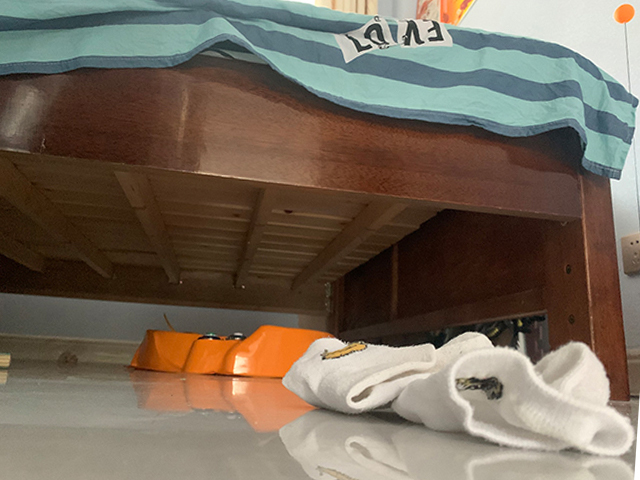bed: (1, 1, 640, 402)
socks: (400, 342, 635, 457), (282, 333, 436, 419)
